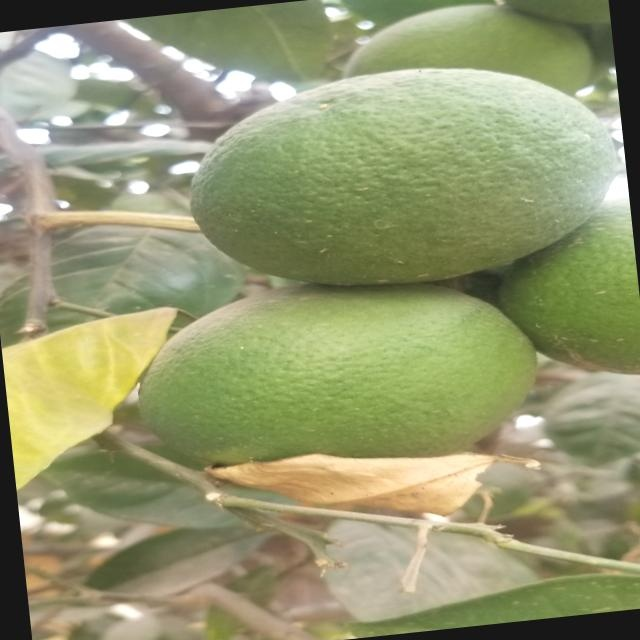agrume: (184, 41, 626, 311), (122, 269, 560, 521)
